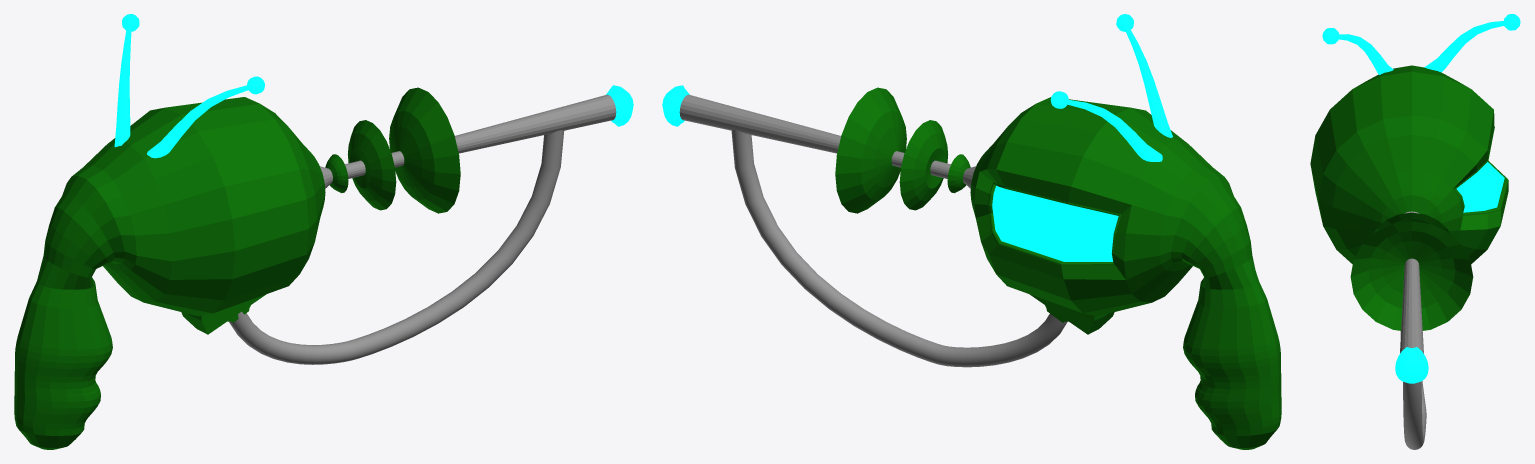
File: GravityGun.fbx
3 renders of one model, left to right at view 1: azimuth 30°, elevation 25°; view 2: azimuth 150°, elevation 25°; view 3: azimuth 270°, elevation 25°, orthographic. The views are drawn at different scales.
Parts seen in each view (by area): view 1: Sphere.004; view 2: Sphere.004; view 3: Sphere.004.
Boxes of the visible parts, left/top/right/bottom form: Sphere.004: left=14, top=14, right=633, bottom=449; Sphere.004: left=662, top=14, right=1281, bottom=449; Sphere.004: left=1310, top=14, right=1520, bottom=449.
Bounding box in the file's own units: 1964 × 1109 × 614.
